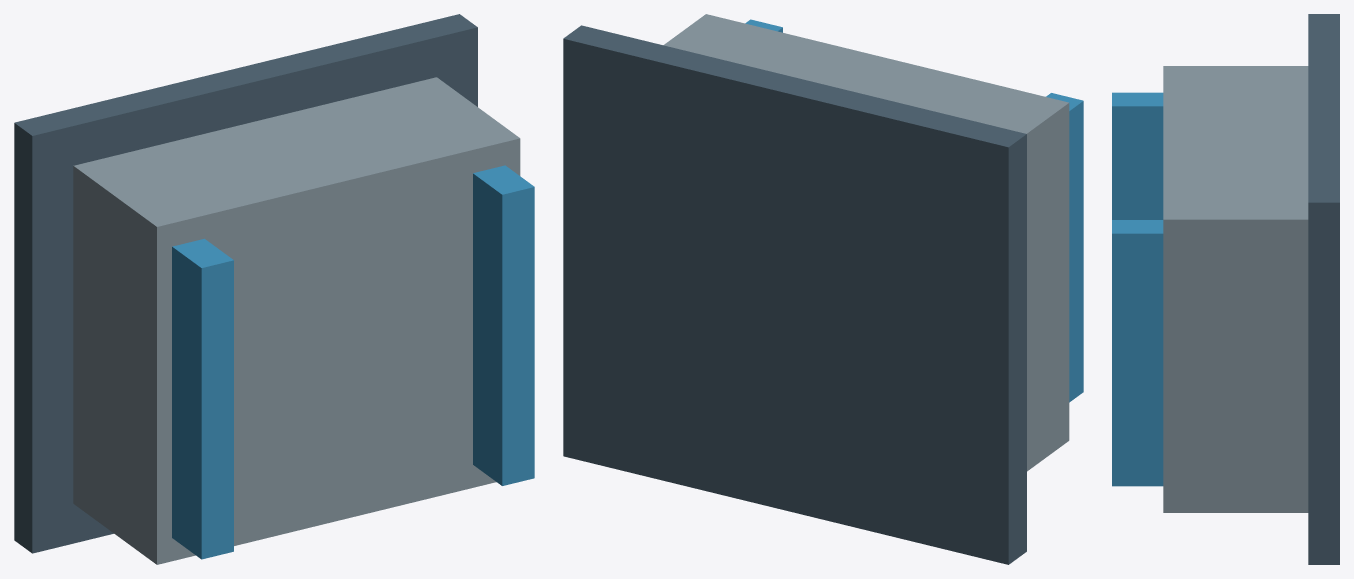
Rendered from b_barracks_stage2.glb.
3 renders of one model, left to right at view 1: azimuth 30°, elevation 25°; view 2: azimuth 150°, elevation 25°; view 3: azimuth 270°, elevation 25°, orthographic. The views are drawn at different scales.
Parts seen in each view (by area): view 1: main_structure, foundation, support_-1.6199999999999999, support_1.6199999999999999; view 2: foundation, main_structure, support_-1.6199999999999999; view 3: main_structure, foundation, support_1.6199999999999999, support_-1.6199999999999999.
Boxes of the visible parts, <box> form: main_structure: <box>73,77,520,564</box>; foundation: <box>14,14,477,553</box>; support_-1.6199999999999999: <box>172,238,233,559</box>; support_1.6199999999999999: <box>473,165,534,485</box>; foundation: <box>563,25,1026,564</box>; main_structure: <box>663,14,1069,471</box>; support_-1.6199999999999999: <box>1046,93,1083,402</box>; main_structure: <box>1163,66,1308,512</box>; foundation: <box>1308,14,1339,564</box>; support_1.6199999999999999: <box>1112,220,1163,486</box>; support_-1.6199999999999999: <box>1112,92,1163,219</box>.
Size of the model in its own units: 4.8 by 4.3 by 2.45.
